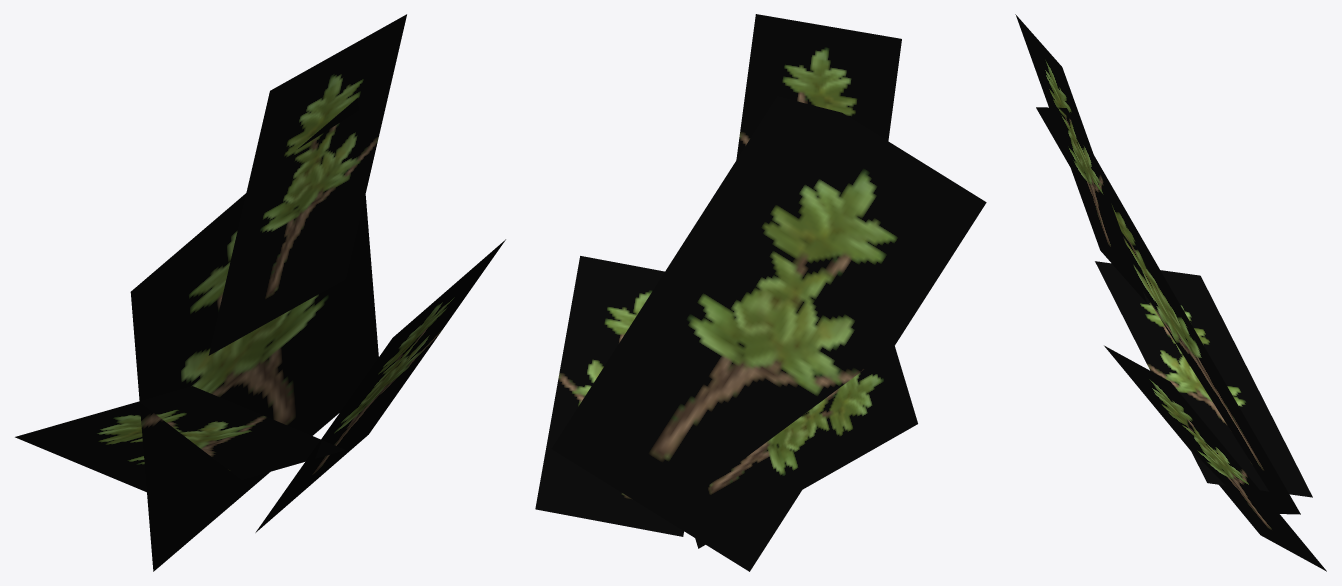
The model's file is Grass_D_1.fbx.
3 renders of one model, left to right at view 1: azimuth 30°, elevation 25°; view 2: azimuth 150°, elevation 25°; view 3: azimuth 270°, elevation 25°, orthographic. The views are drawn at different scales.
Visible parts, largest first — view 1: Grass_D_1__29_; view 2: Grass_D_1__29_; view 3: Grass_D_1__29_.
Boxes of the visible parts, x1=… form: Grass_D_1__29_: x1=15, y1=14, x2=505, y2=571; Grass_D_1__29_: x1=535, y1=14, x2=986, y2=571; Grass_D_1__29_: x1=1015, y1=14, x2=1326, y2=571.
Size of the model in its own units: 0.2423 by 0.3053 by 0.1748.
